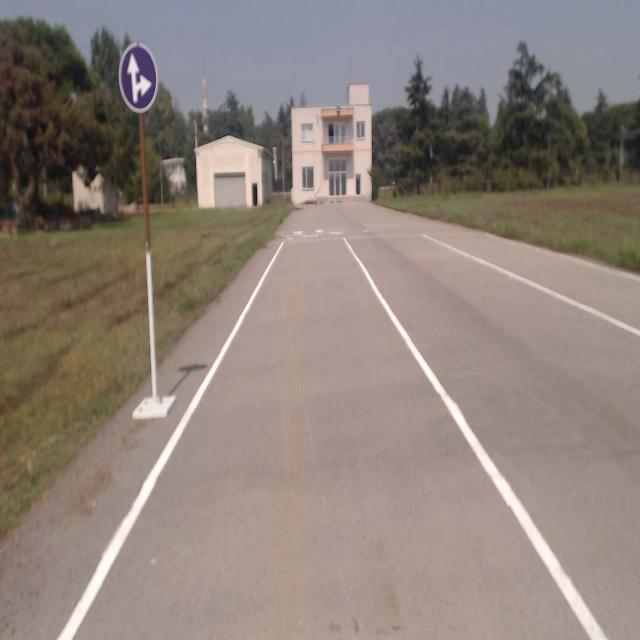ilerisag: (120, 44, 156, 110)
